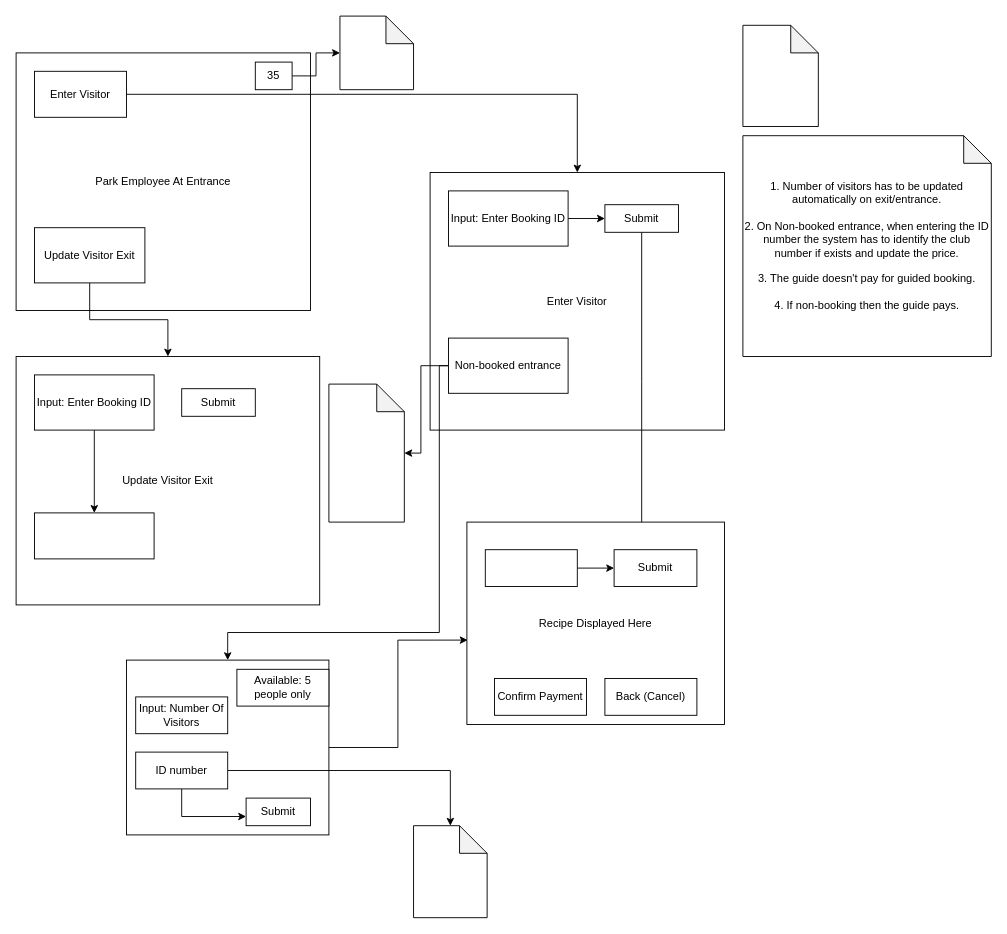
The diagram is 1007 pixels wide and 934 high, and some of its shapes have lost their labels. Each missing label, with the centre of its shape:
Automatically Update the price, when club member enters: the point at 450,871
Booking ID / QR Code: the point at 780,75
Input: Discount Code: the point at 530,567
Input: Number of exits: the point at 94,535
It is disabled if there is no place in the park, otherwise it is enabled: the point at 366,452
Number of current visitors at the park: the point at 376,52
